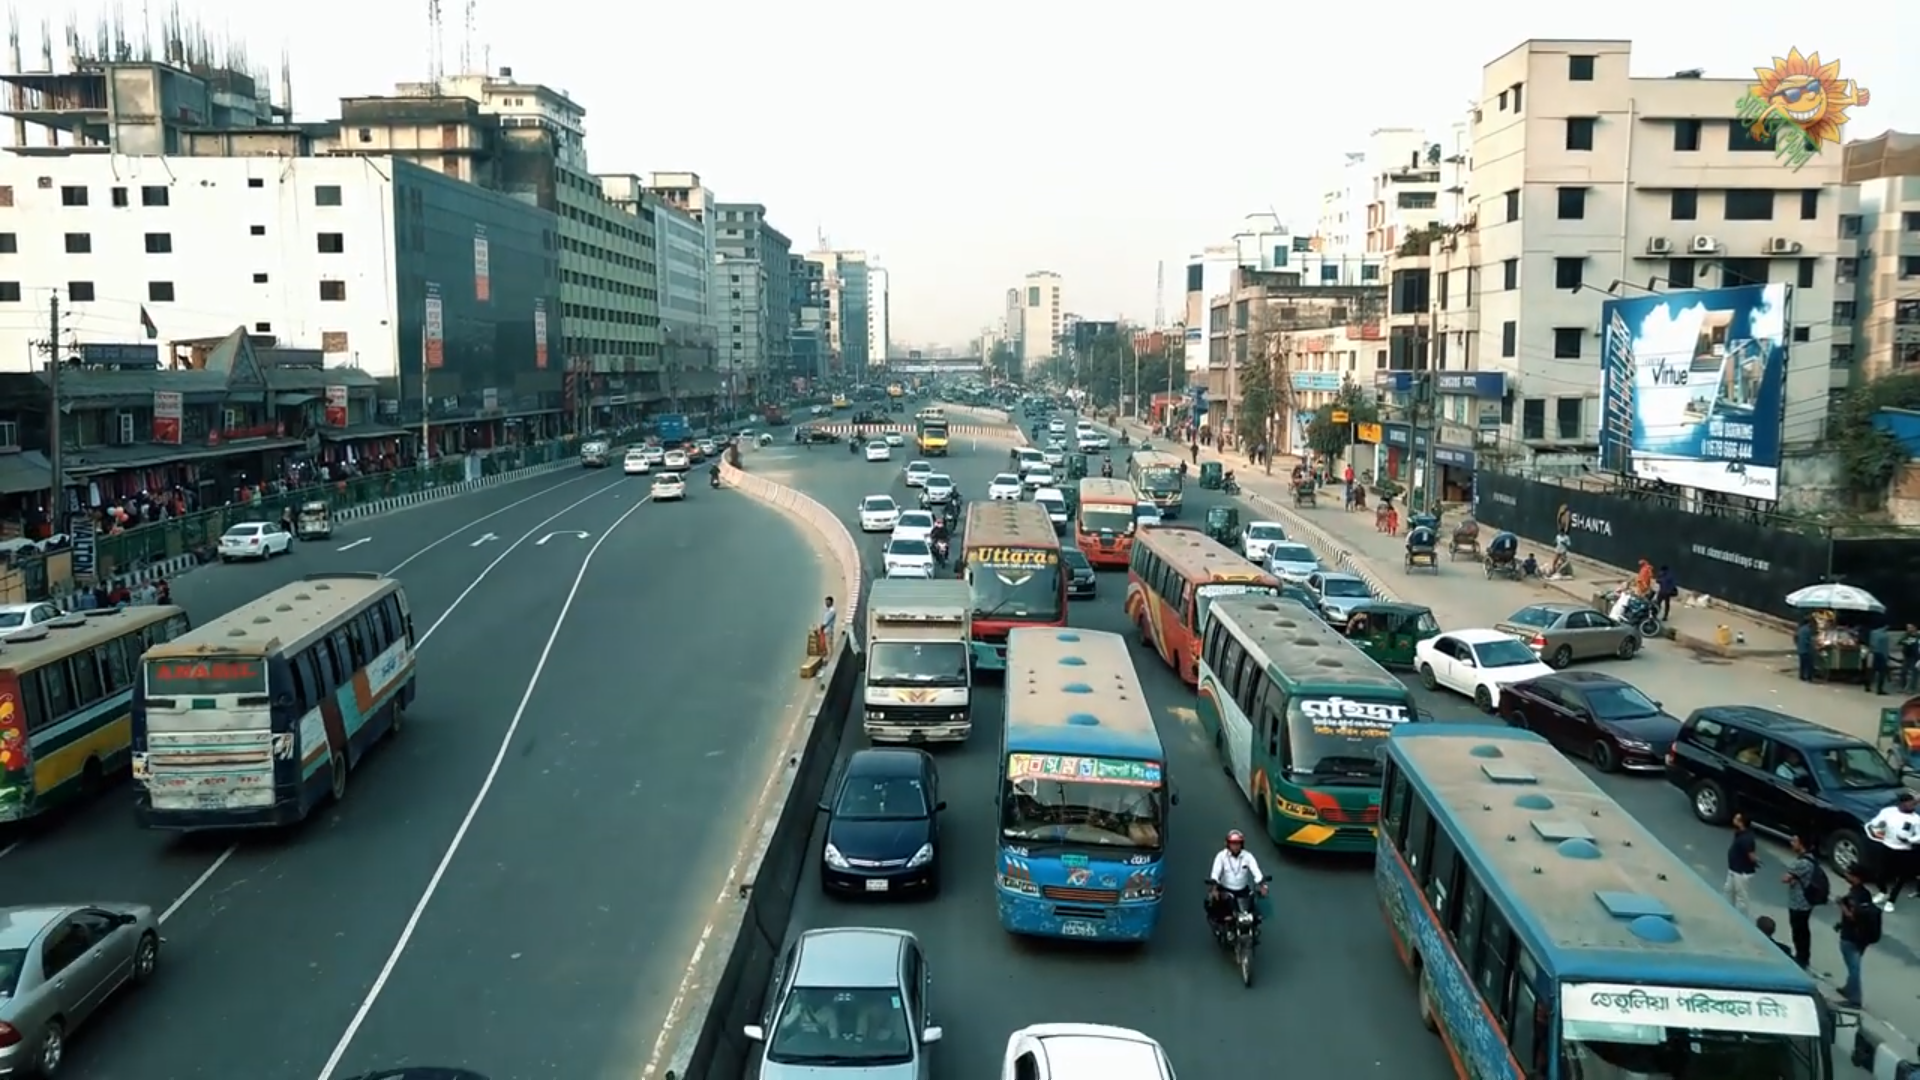MotorCycle: (1207, 825, 1276, 1001)
